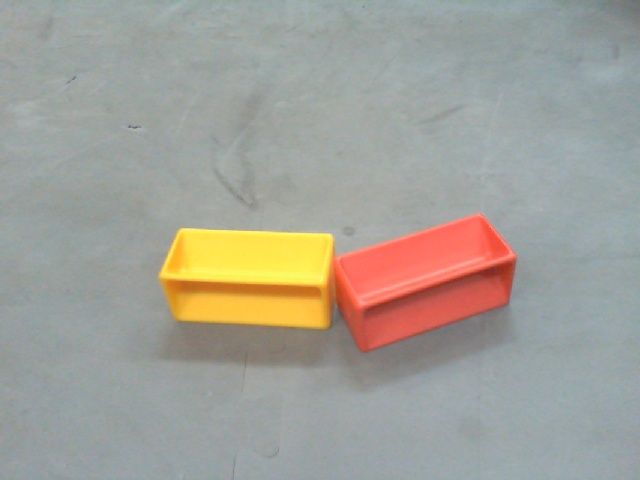RedSample: (336, 213, 517, 353)
YellowSample: (157, 229, 336, 328)
